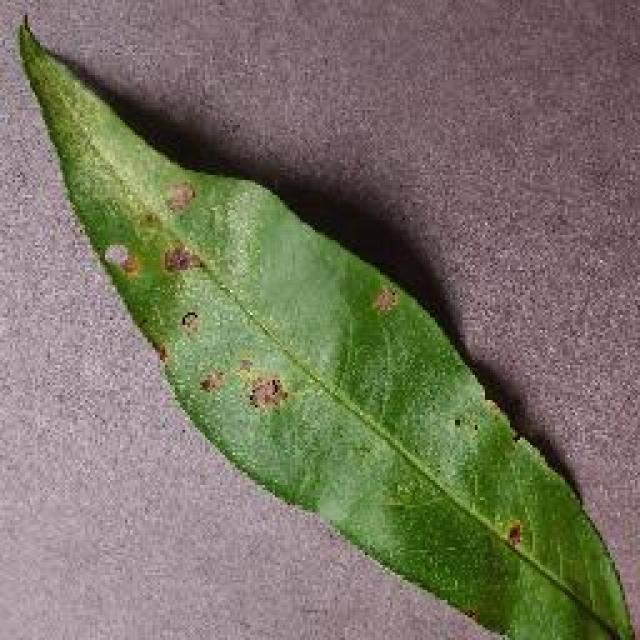Peach_Bacterial_Spot: (88, 145, 555, 562)
